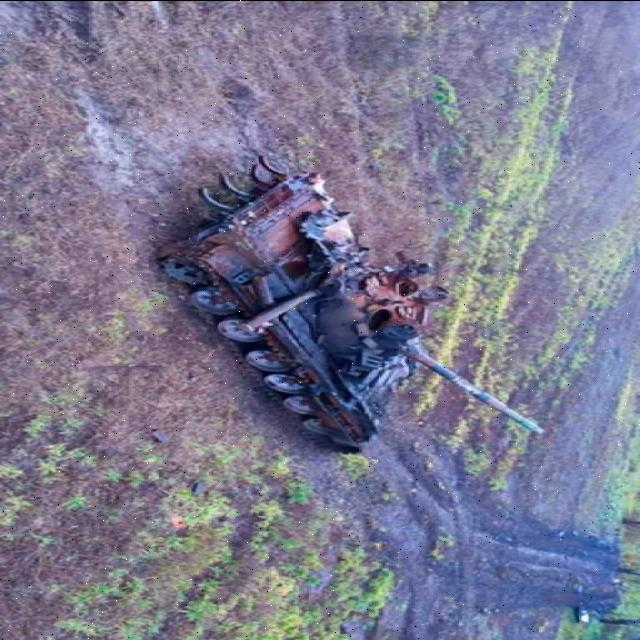TANK: (142, 152, 568, 450)
